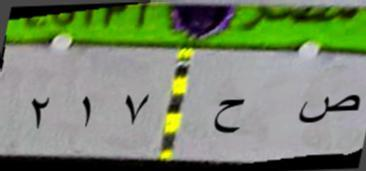1: (75, 88, 97, 130)
2: (25, 90, 54, 135)
7: (122, 88, 152, 128)
7aa: (206, 93, 247, 142)
saad: (294, 86, 363, 128)
